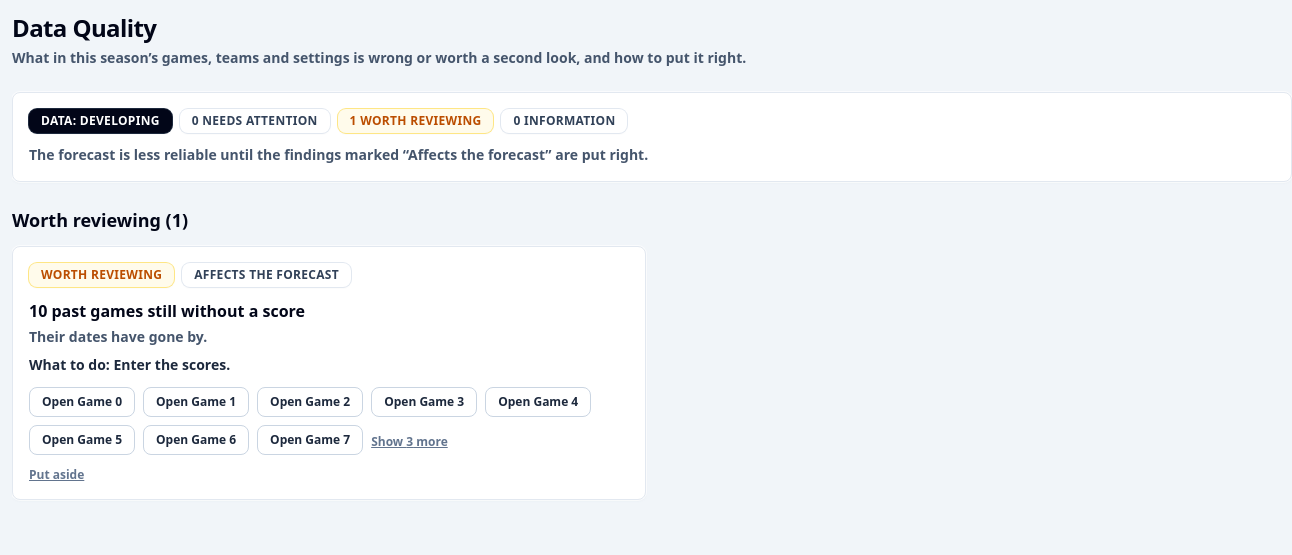
Scenario: a finding's links › show the first few, and every one on asking
Click the button "Show 3 more" at (409, 442), box 371,434 -> 448,450
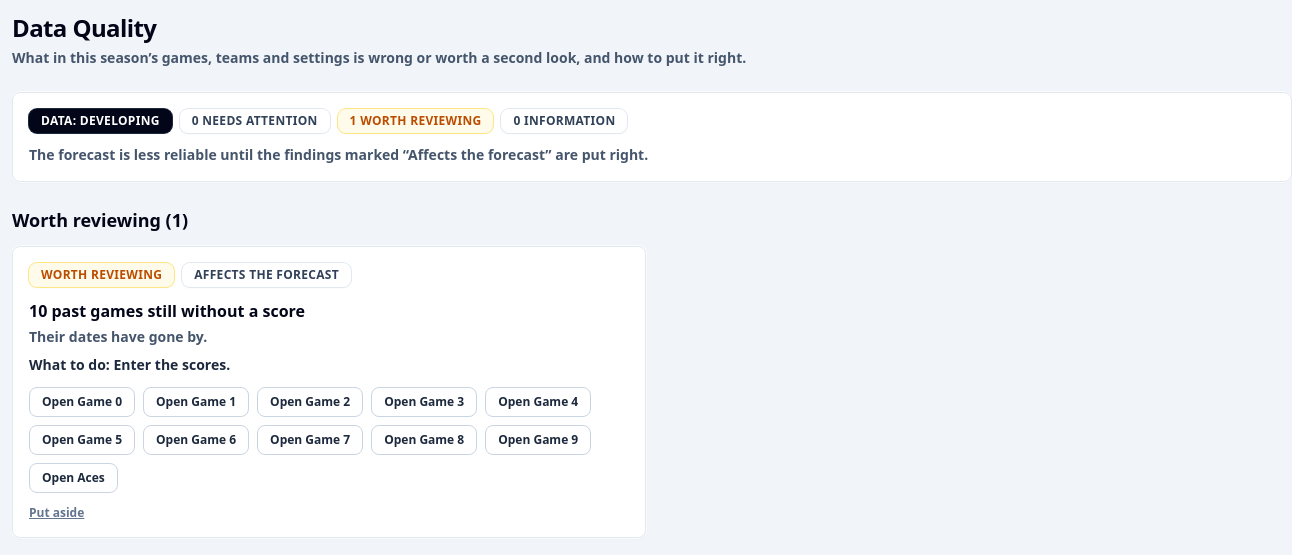
Expected: the number of buttons "Open Game 0" is 11
